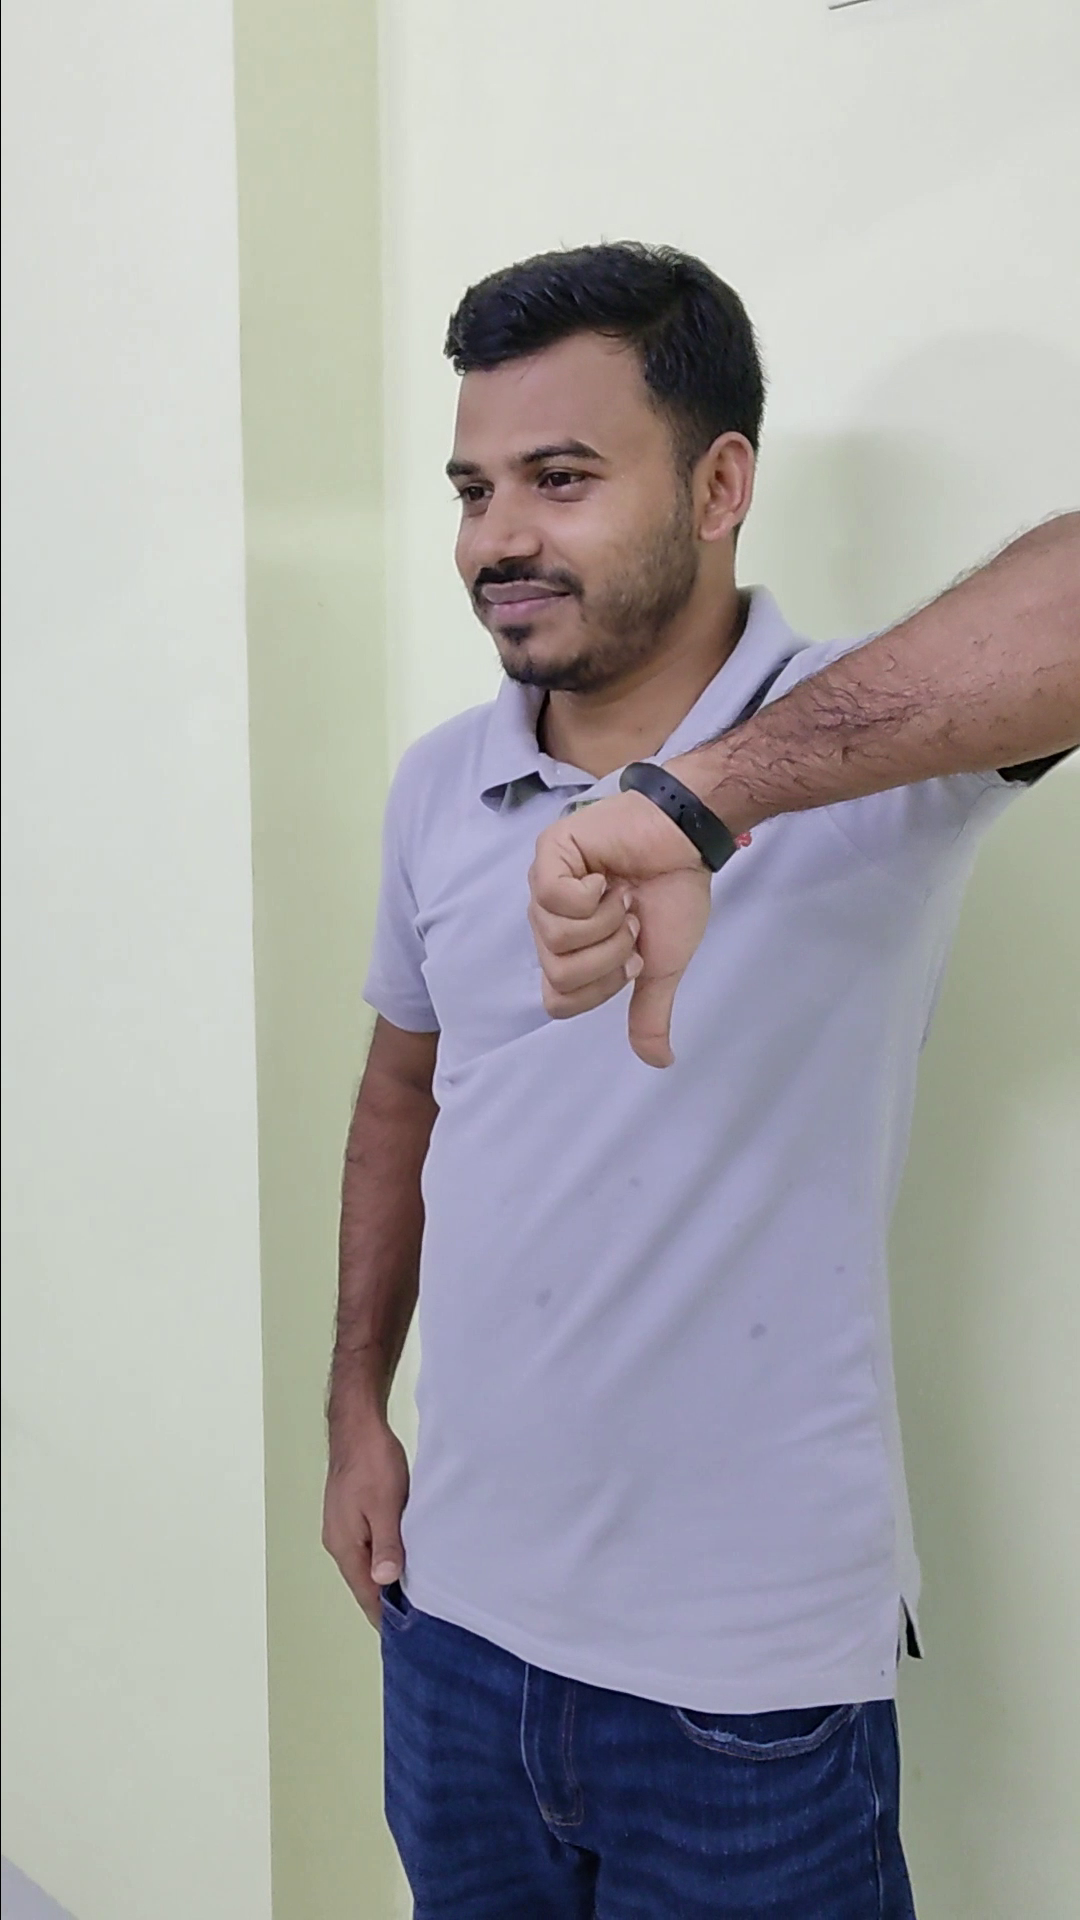Dislike: (502, 757, 732, 1083)
None: (294, 1360, 440, 1654)
